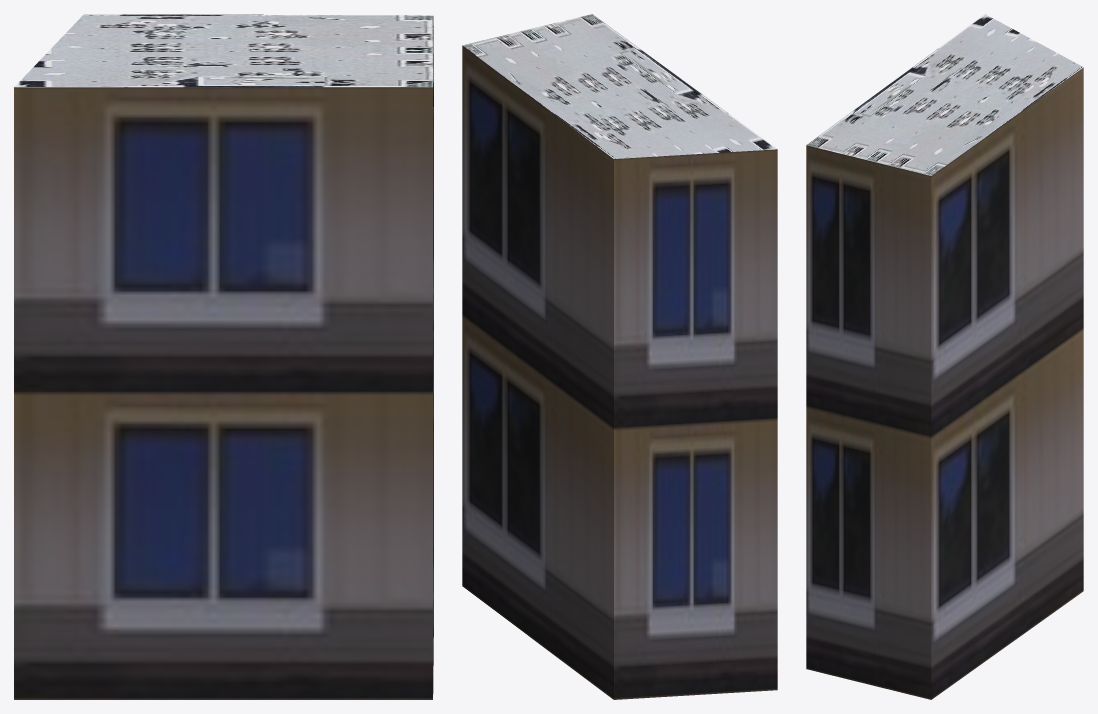
Rendered from ResTex__3326.fbx.
3 views of the same model, side by side, from view 1: azimuth 30°, elevation 25°; view 2: azimuth 150°, elevation 25°; view 3: azimuth 270°, elevation 25° (orthographic). The views are drawn at different scales.
Visible parts, largest first — view 1: CityEngineMaterial_5_m, CityEngineMaterial_m; view 2: CityEngineMaterial_5_m, CityEngineMaterial_m; view 3: CityEngineMaterial_5_m, CityEngineMaterial_m.
Part boxes in pixels (x1,y1,x2,y2): CityEngineMaterial_5_m: (14, 25, 433, 699); CityEngineMaterial_m: (14, 14, 433, 87); CityEngineMaterial_5_m: (462, 45, 777, 699); CityEngineMaterial_m: (463, 14, 776, 158); CityEngineMaterial_5_m: (806, 67, 1083, 699); CityEngineMaterial_m: (806, 14, 1083, 175).
Size of the model in its own units: 3.98 by 6 by 2.88.
Materials: 2 (2 with a texture image).
